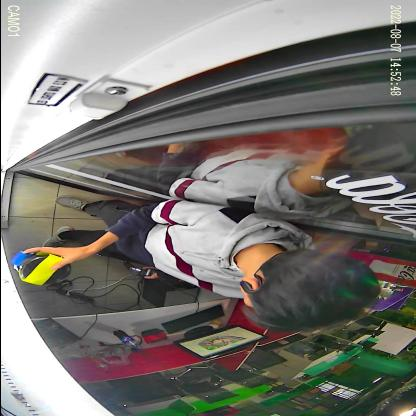blue: (10, 251, 40, 271)
yellow: (16, 252, 70, 286)
